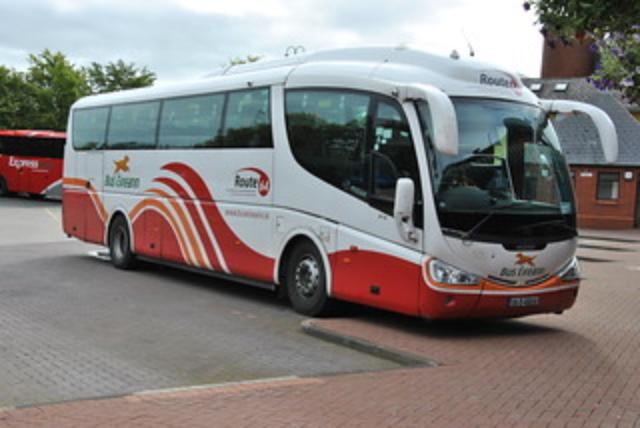bus: (62, 46, 582, 322)
